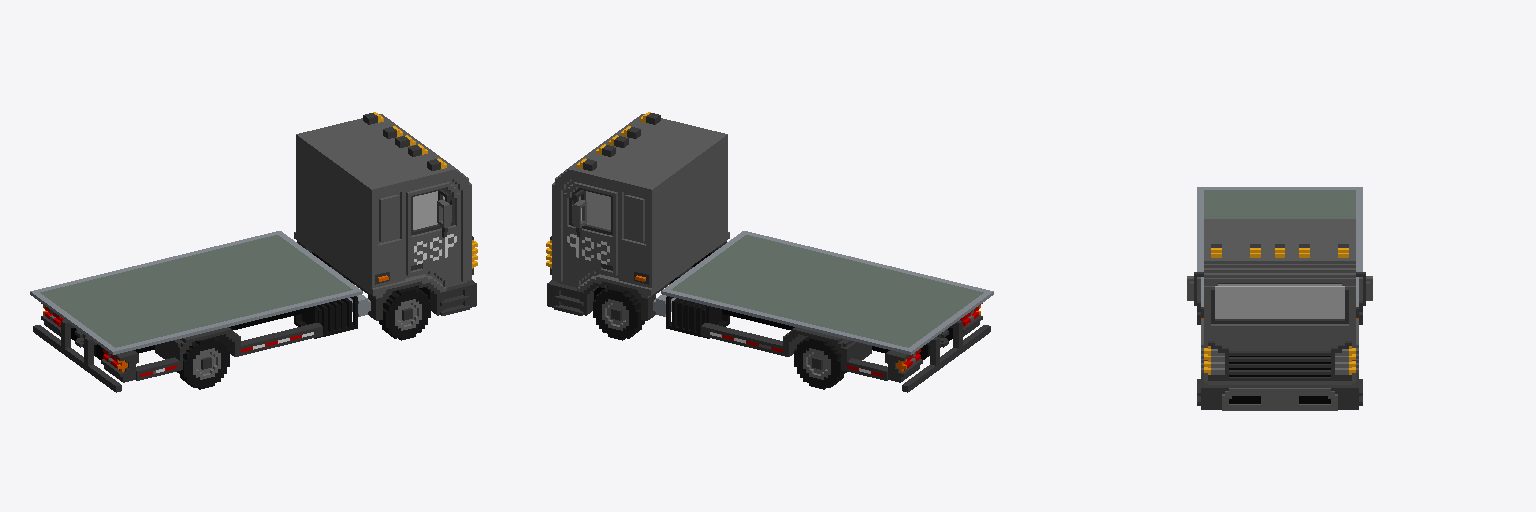
3 views of the same model, side by side, from view 1: azimuth 30°, elevation 25°; view 2: azimuth 150°, elevation 25°; view 3: azimuth 270°, elevation 25° (orthographic).
Parts seen in each view (by area): view 1: object 1; view 2: object 1; view 3: object 1.
Boxes of the visible parts, x1=… form: object 1: x1=30, y1=112, x2=477, y2=392; object 1: x1=546, y1=112, x2=993, y2=392; object 1: x1=1187, y1=187, x2=1372, y2=410.
Size of the model in its own units: 12.1 by 5.1 by 5.3.
Materials: 1 (1 with a texture image).